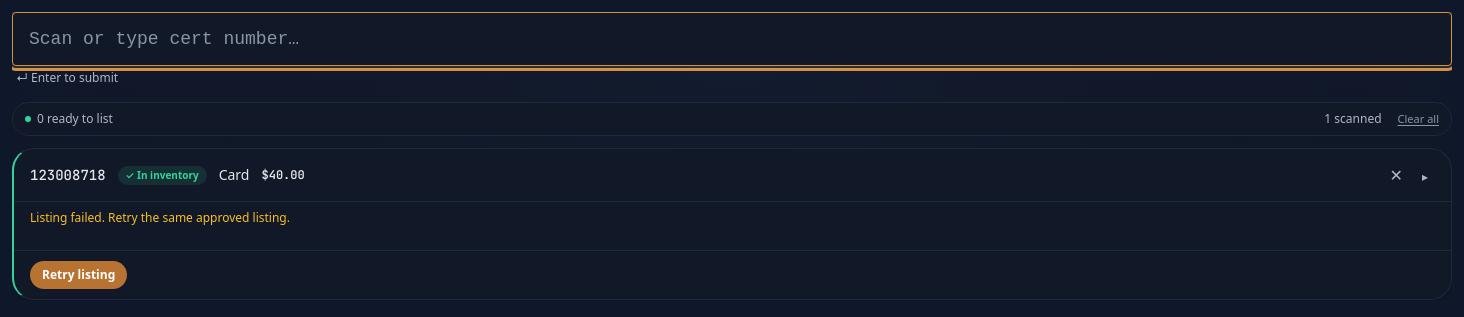
Test: restores retry from server state after remount and never saves a price
Click the button "Retry listing" at (79, 275), box [30,261,127,289]
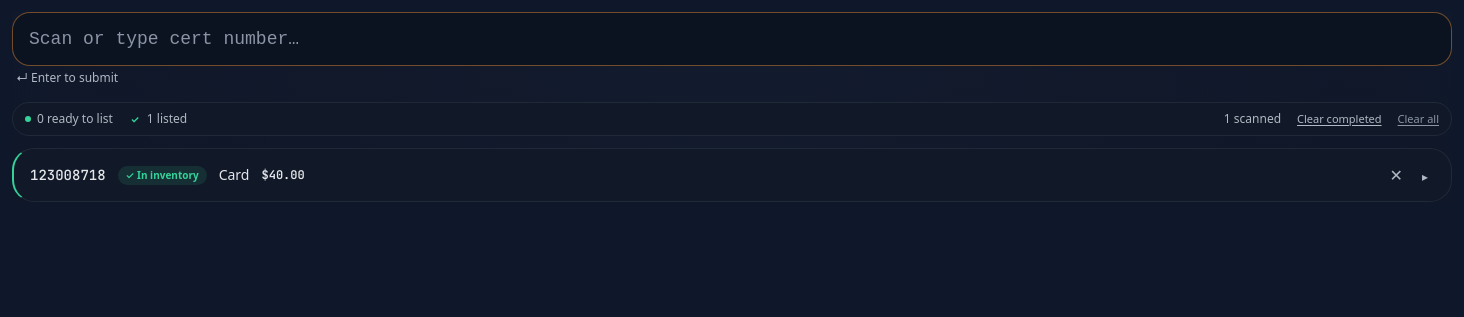
Result: the button "Retry listing" is gone
